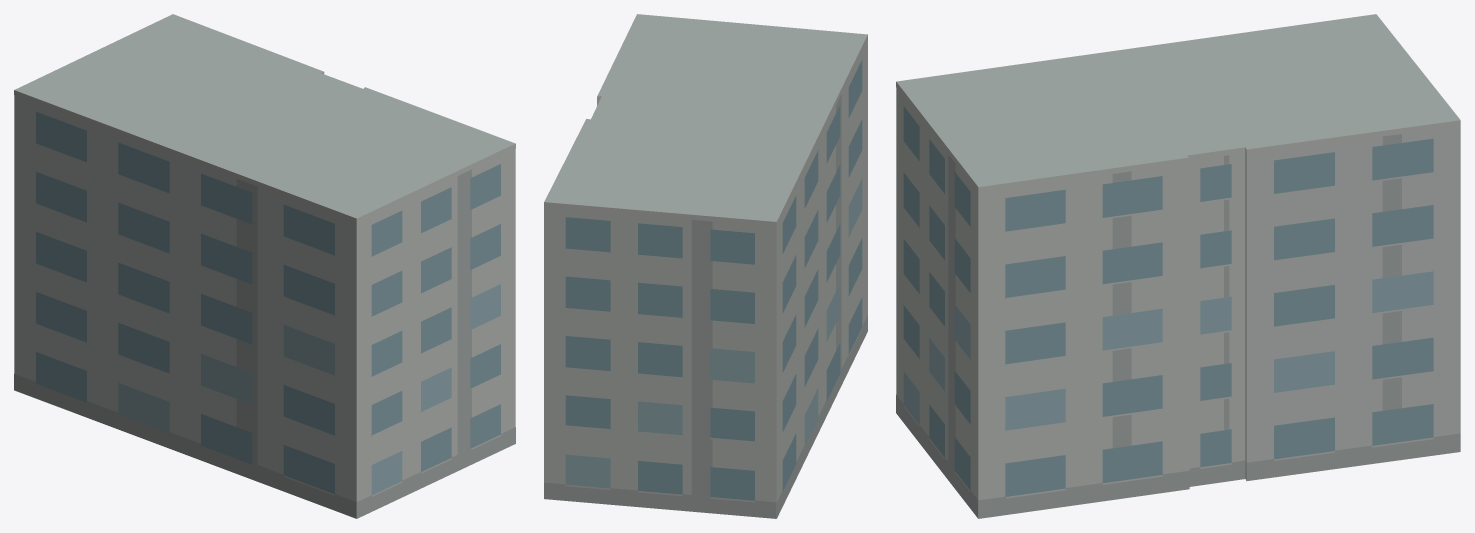
The model's file is survey-upis-32619880.glb.
3 views of the same model, side by side, from view 1: azimuth 30°, elevation 25°; view 2: azimuth 150°, elevation 25°; view 3: azimuth 270°, elevation 25° (orthographic). The views are drawn at different scales.
Visible parts, largest first — view 1: survey-upis-32619880.tmp; view 2: survey-upis-32619880.tmp; view 3: survey-upis-32619880.tmp.
Part boxes in pixels (x1,y1,x2,y2): survey-upis-32619880.tmp: [14, 14, 515, 518]; survey-upis-32619880.tmp: [544, 14, 867, 518]; survey-upis-32619880.tmp: [896, 14, 1460, 518].
Bounding box in the file's own units: 16.03 × 14.3 × 22.07.
